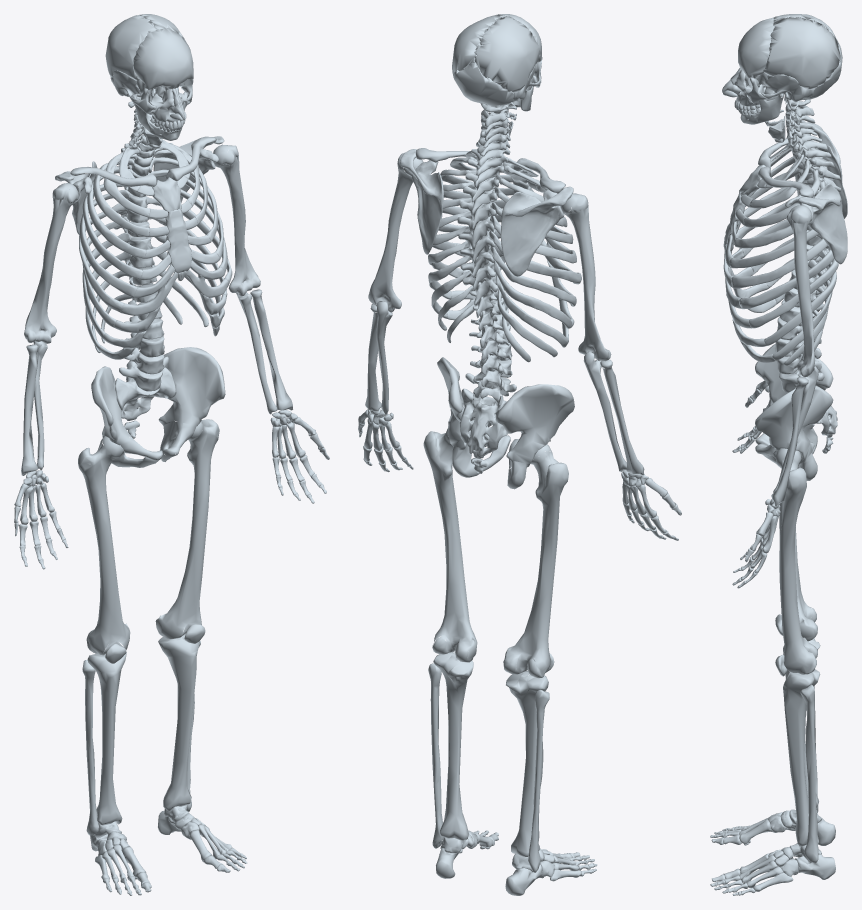
File: squelette.glb
3 renders of one model, left to right at view 1: azimuth 30°, elevation 25°; view 2: azimuth 150°, elevation 25°; view 3: azimuth 270°, elevation 25°, orthographic. The views are drawn at different scales.
Parts seen in each view (by area): view 1: squelette:reste, femur, hanche, rachis; view 2: squelette:reste, rachis, femur, hanche; view 3: squelette:reste, femur, rachis, hanche.
Part boxes in pixels (x1,y1,x2,y2): squelette:reste: (14, 14, 329, 895); femur: (78, 419, 219, 655); hanche: (91, 347, 225, 467); rachis: (114, 96, 175, 438); squelette:reste: (358, 14, 681, 895); rachis: (457, 102, 516, 473); femur: (423, 428, 568, 678); hanche: (437, 357, 574, 489); squelette:reste: (710, 14, 847, 895); femur: (775, 448, 817, 674); rachis: (775, 98, 840, 453); hanche: (755, 344, 833, 480).
Bounding box in the file's own units: 0.6693 × 1.7 × 0.2501.
